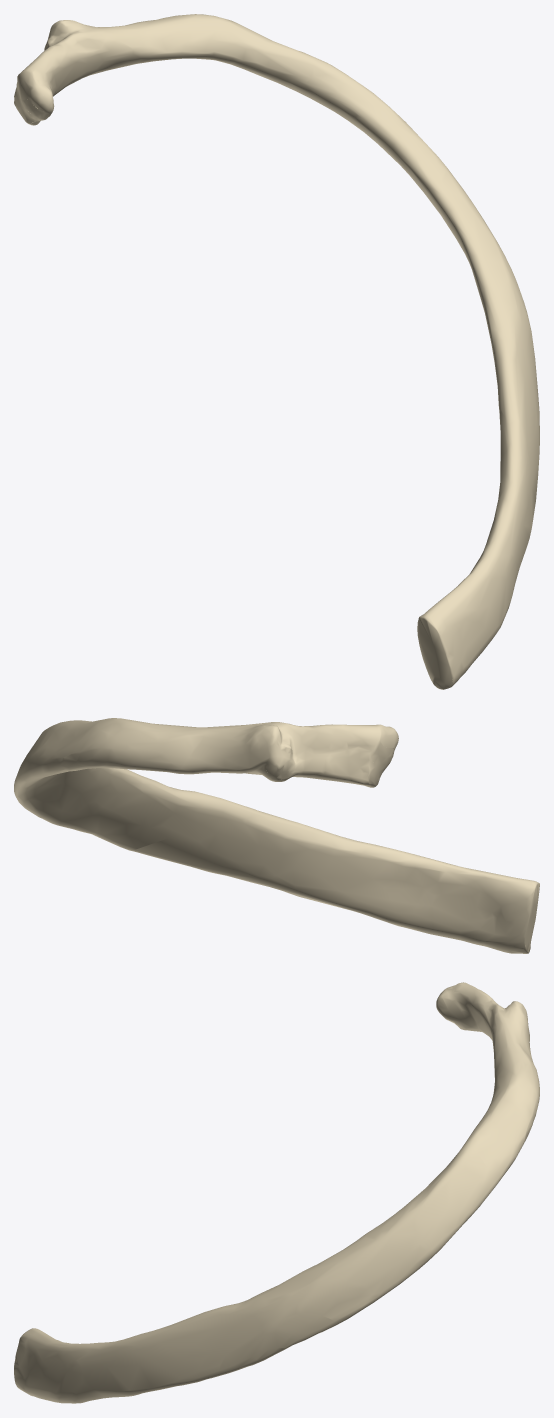
File: esqueleto-third-rib-l.glb
3 renders of one model, top to bottom at view 1: azimuth 30°, elevation 25°; view 2: azimuth 150°, elevation 25°; view 3: azimuth 270°, elevation 25°, orthographic. The views are drawn at different scales.
Parts seen in each view (by area): view 1: Third rib.l; view 2: Third rib.l; view 3: Third rib.l.
Boxes of the visible parts, x1,y1,x2,y2 form: Third rib.l: [14, 14, 539, 689]; Third rib.l: [14, 718, 539, 953]; Third rib.l: [14, 982, 539, 1403].
Bounding box in the file's own units: 0.0955 × 0.1058 × 0.1392.
